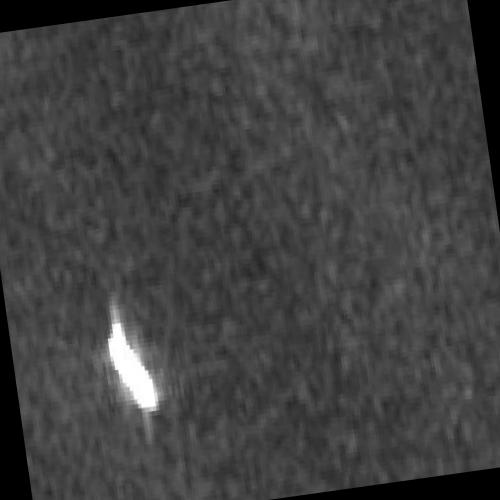ship: (108, 320, 158, 409)
